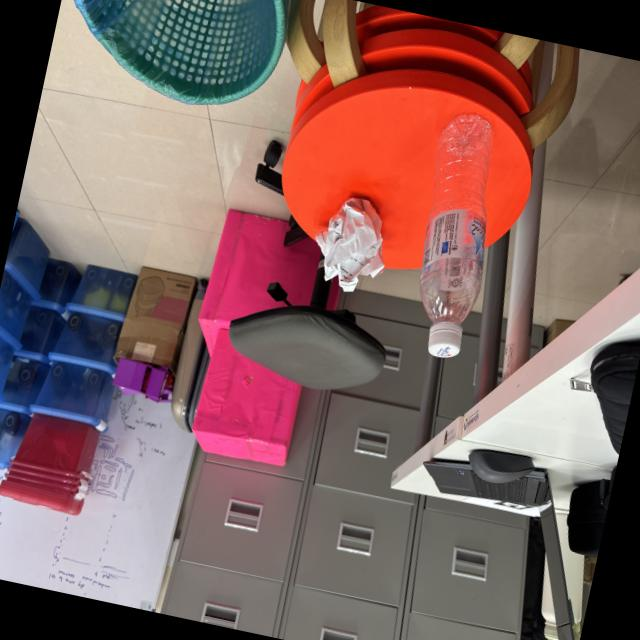crumpled_paper: (297, 176, 406, 306)
plastic_bottle: (381, 96, 523, 374)
